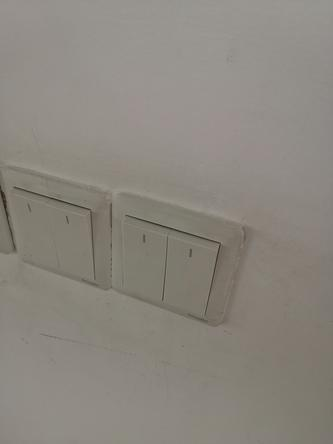switch: (159, 226, 221, 322), (115, 210, 171, 306), (43, 192, 100, 283), (6, 182, 57, 273)
